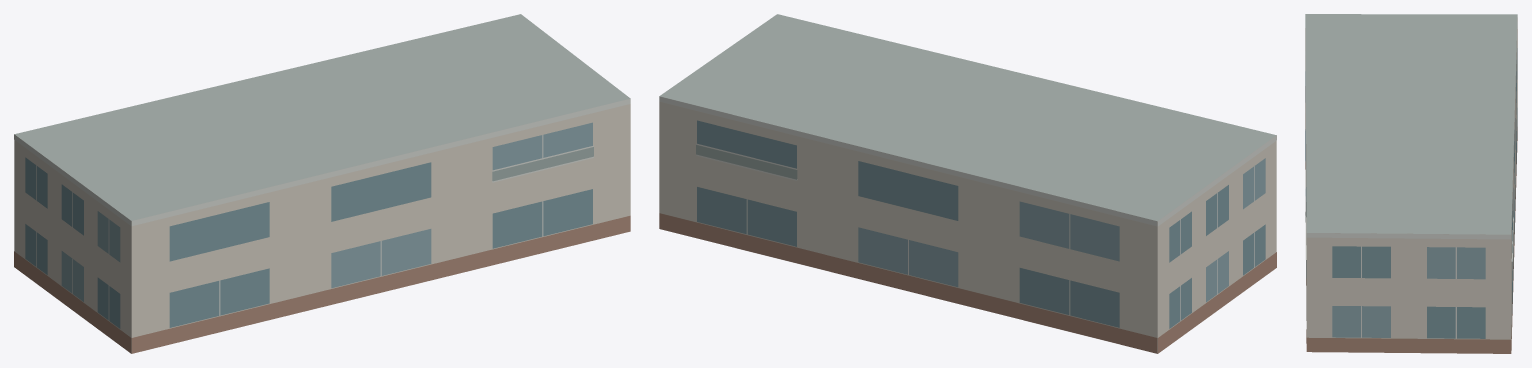
Rendered from survey-upis-32501619.glb.
3 views of the same model, side by side, from view 1: azimuth 30°, elevation 25°; view 2: azimuth 150°, elevation 25°; view 3: azimuth 270°, elevation 25° (orthographic). The views are drawn at different scales.
Visible parts, largest first — view 1: survey-upis-32501619.tmp; view 2: survey-upis-32501619.tmp; view 3: survey-upis-32501619.tmp.
Boxes of the visible parts, bbox=[...] form: survey-upis-32501619.tmp: bbox=[14, 14, 630, 353]; survey-upis-32501619.tmp: bbox=[659, 14, 1276, 353]; survey-upis-32501619.tmp: bbox=[1305, 14, 1517, 353].
Size of the model in its own units: 24.23 by 6.1 by 9.85.
